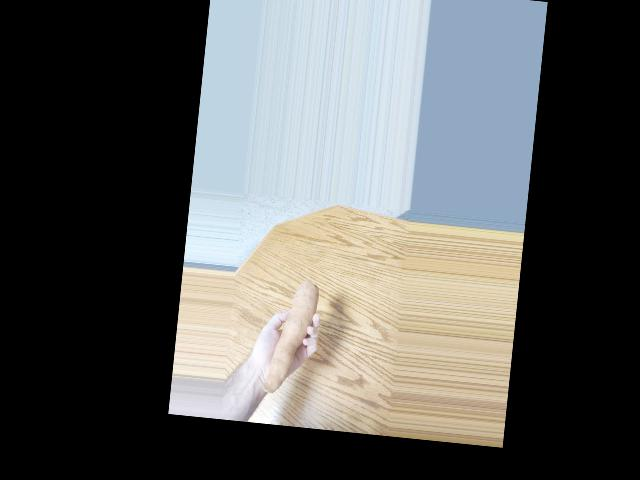sweet_potato: (268, 283, 322, 390)
